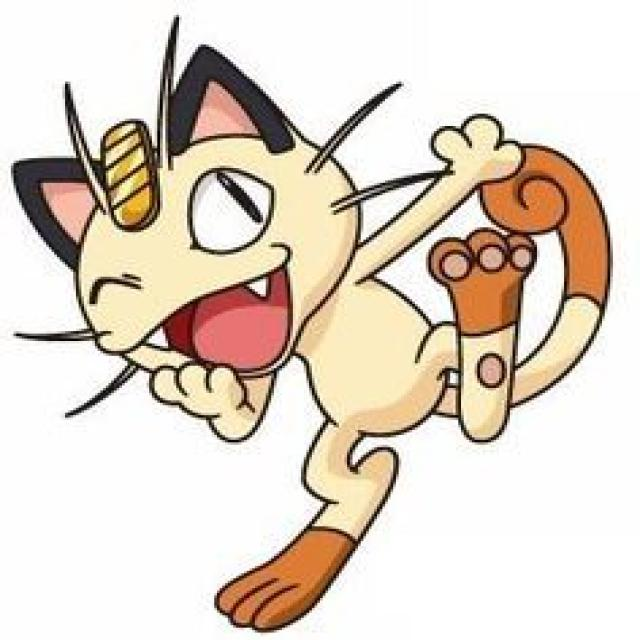Meowth: (72, 62, 570, 453)
